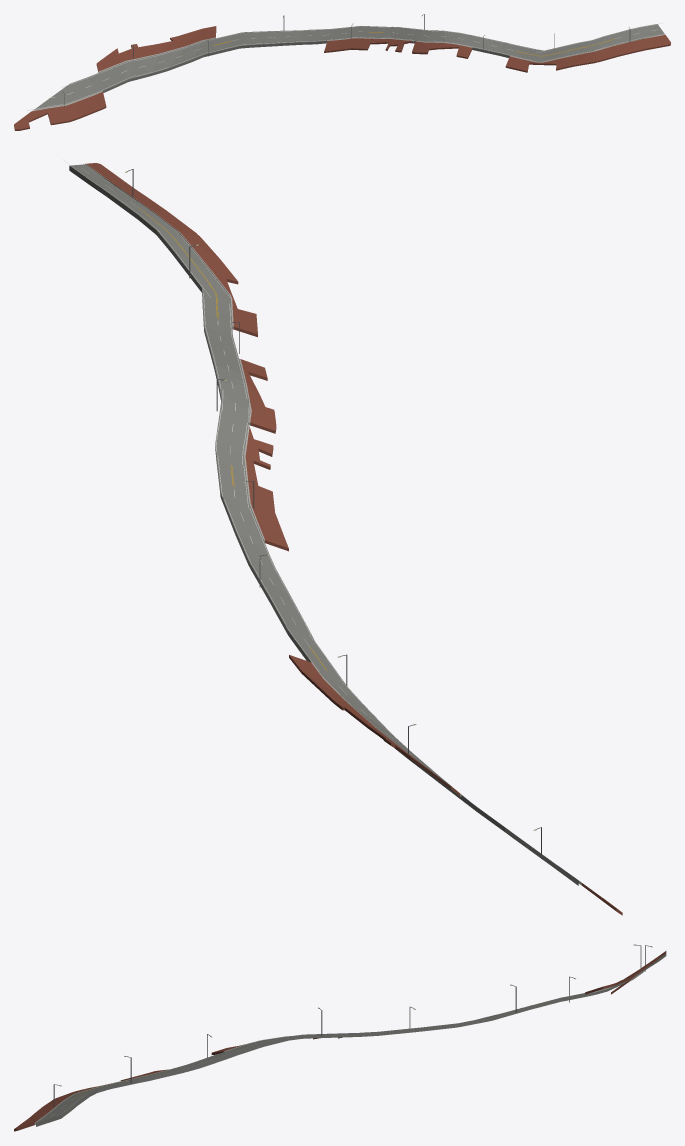
3 renders of one model, top to bottom at view 1: azimuth 30°, elevation 25°; view 2: azimuth 150°, elevation 25°; view 3: azimuth 270°, elevation 25°, orthographic. The views are drawn at different scales.
Bounding box in the file's own units: 230 × 62.87 × 172.
